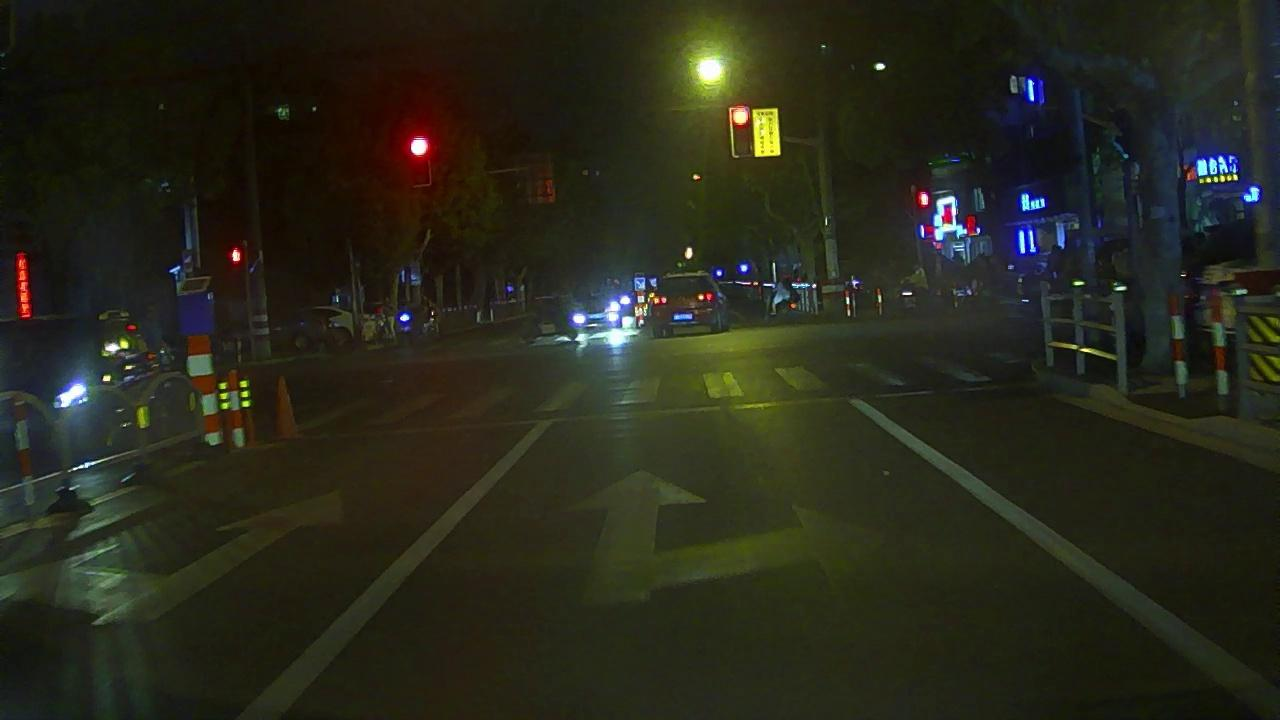traffic_light: (406, 132, 431, 187), (730, 106, 755, 157)
